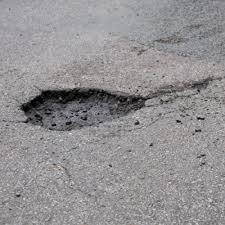pothole: (9, 72, 172, 150)
